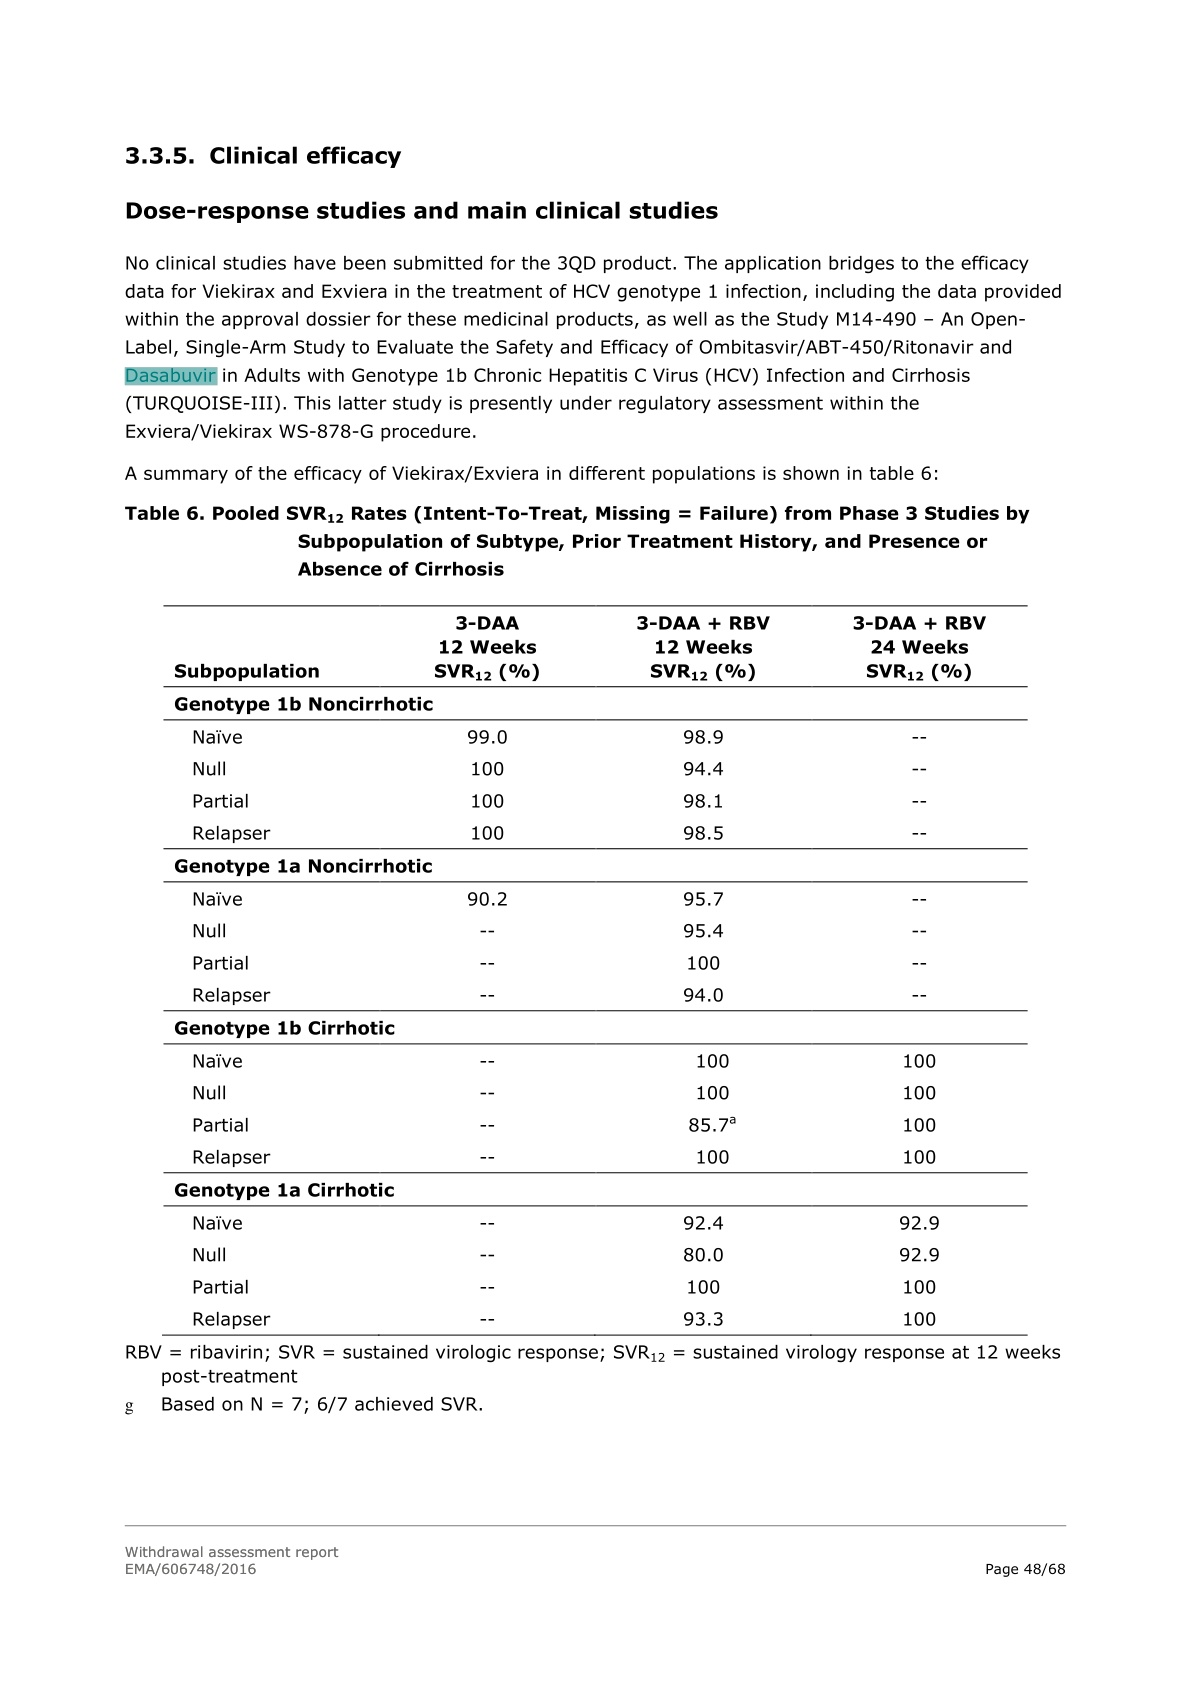partial_lined: (161, 604, 1029, 1337)
